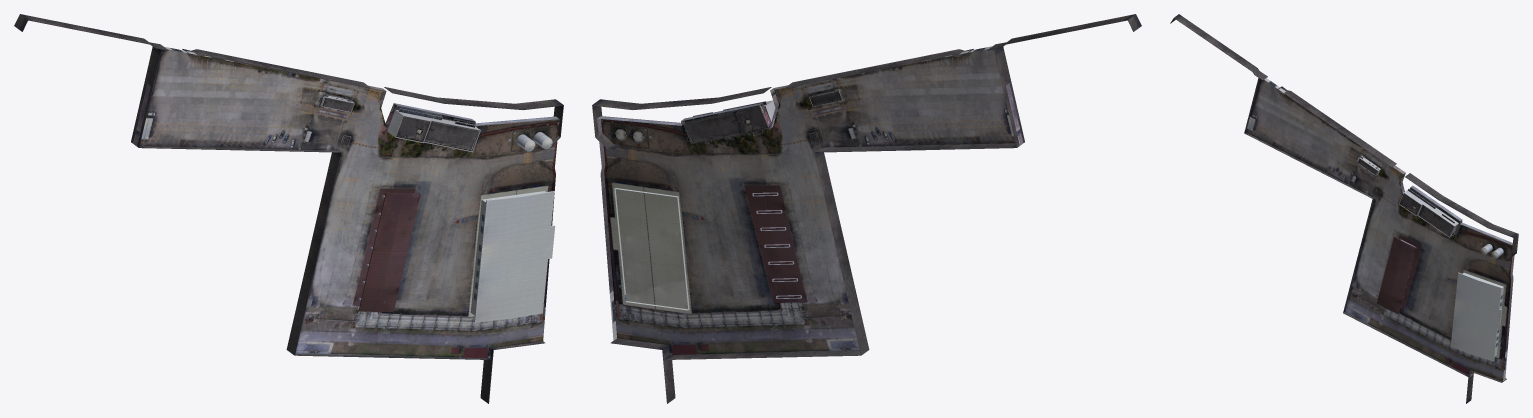
The model's file is building_p5_07_04.fbx.
3 views of the same model, side by side, from view 1: azimuth 30°, elevation 25°; view 2: azimuth 150°, elevation 25°; view 3: azimuth 330°, elevation 25° (orthographic). The views are drawn at different scales.
Visible parts, largest first — view 1: Building_P5_07_04; view 2: Building_P5_07_04; view 3: Building_P5_07_04.
Part boxes in pixels (x1,y1,x2,y2): Building_P5_07_04: [14, 14, 563, 403]; Building_P5_07_04: [592, 14, 1141, 403]; Building_P5_07_04: [1170, 14, 1518, 403].
Size of the model in its own units: 34395 by 30118 by 1662.
